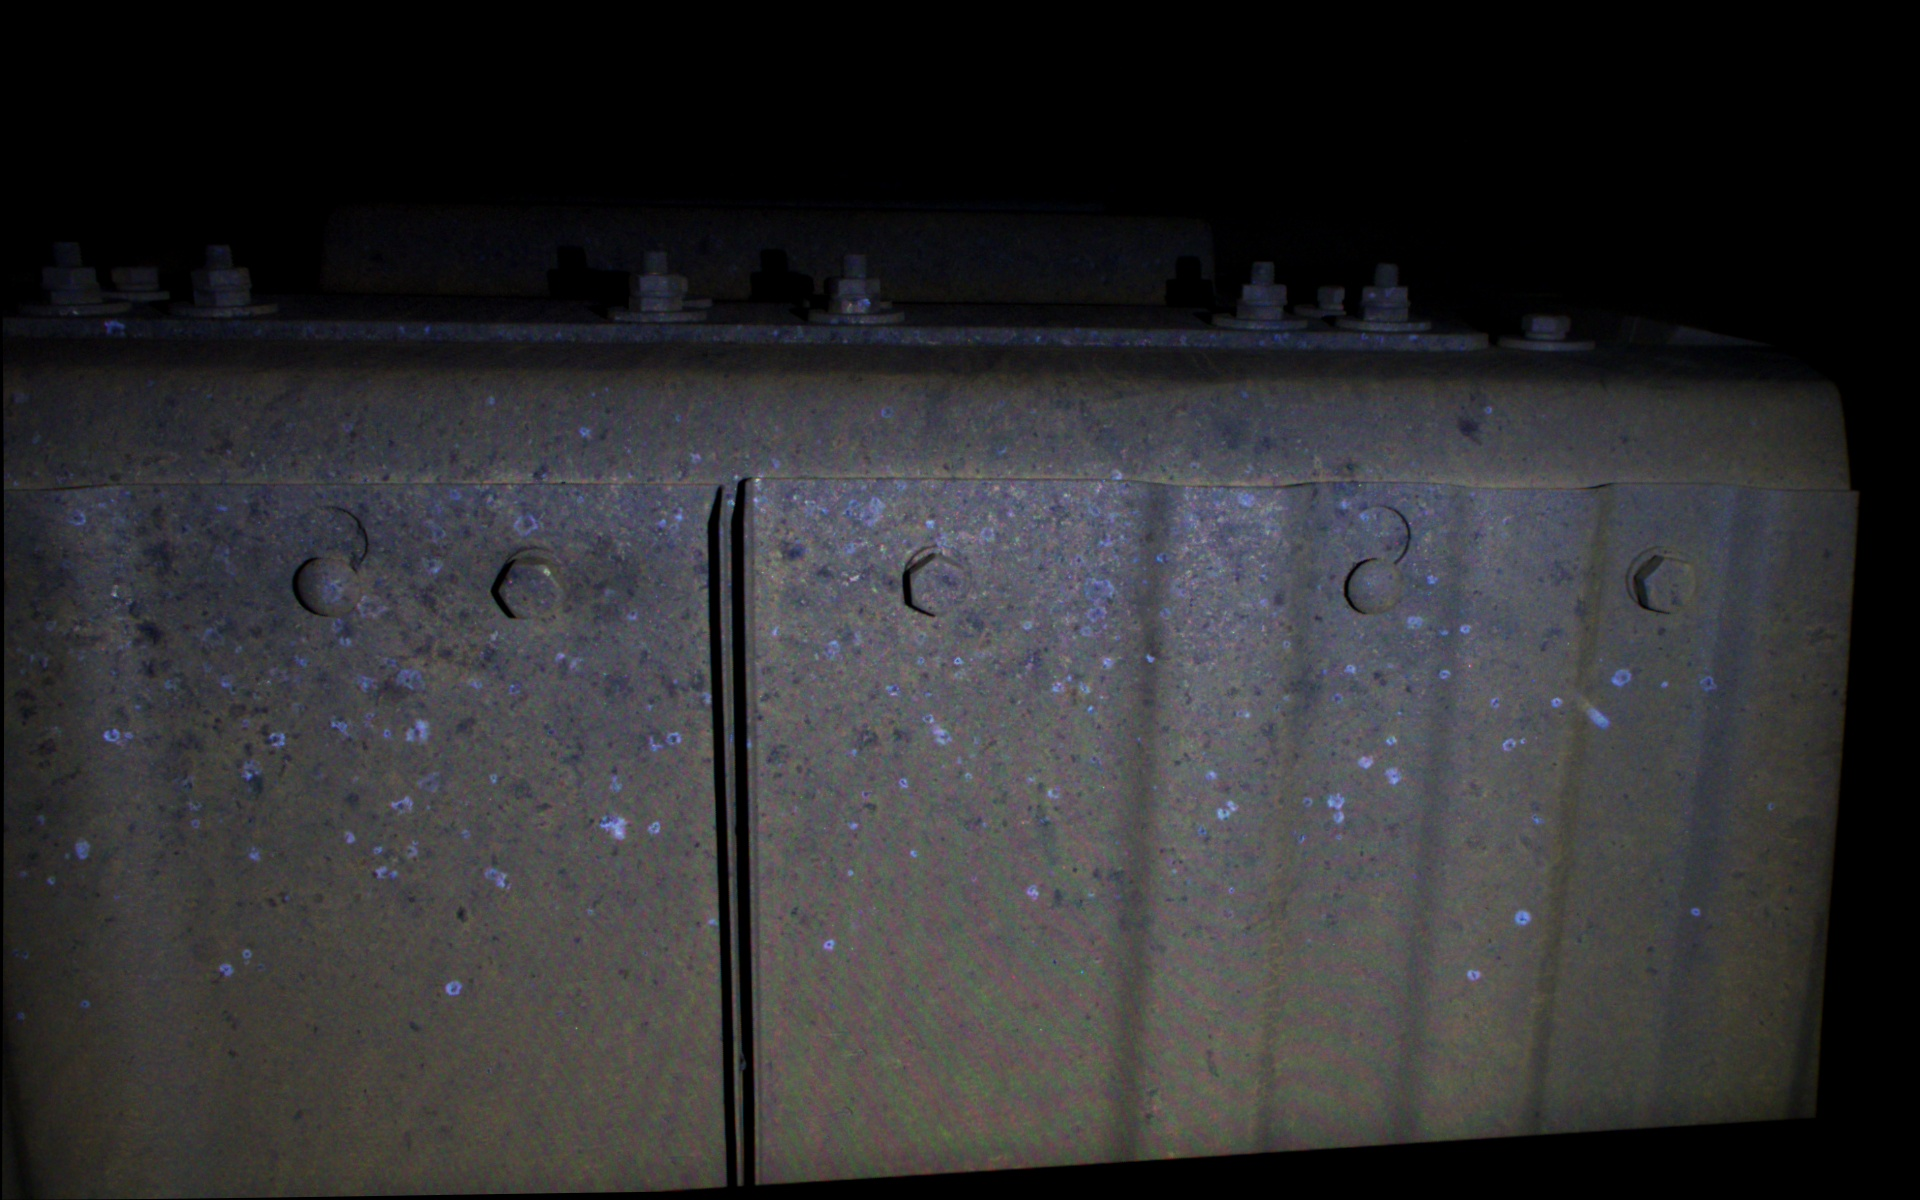BoltHead1: (492, 556, 565, 629)
BoltHead2: (894, 553, 972, 621)
